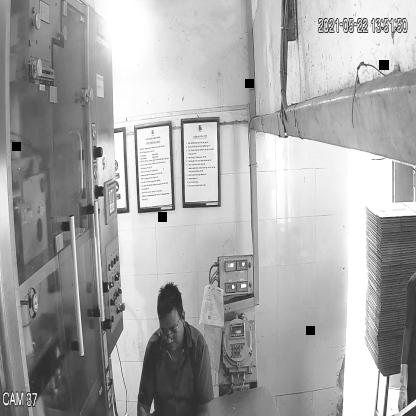goggles: (158, 318, 183, 343)
